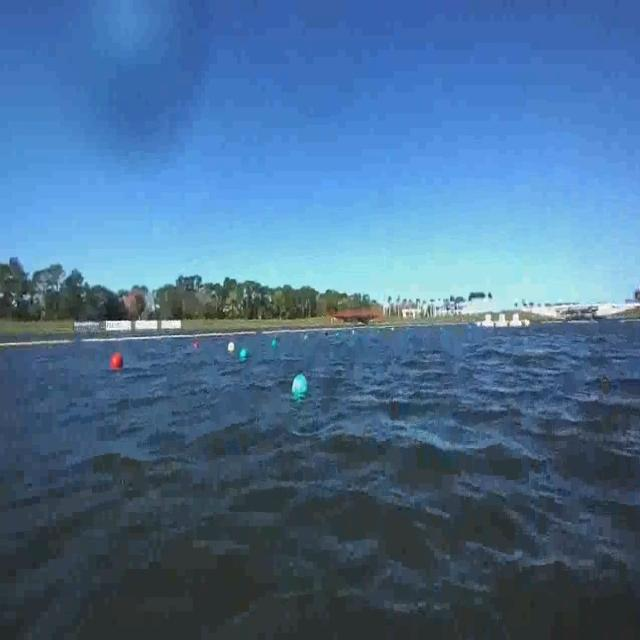green-buoy: (292, 373, 308, 395), (240, 348, 249, 361)
red-buoy: (113, 352, 126, 372)
yellow-buoy: (227, 342, 234, 354)
